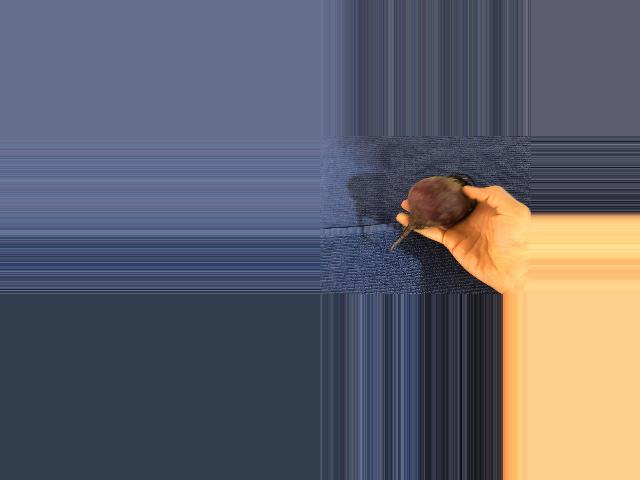beet: (389, 173, 475, 251)
